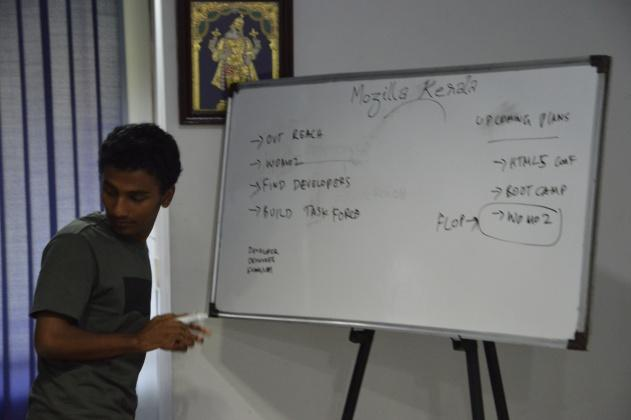Whiteboard: (205, 53, 612, 350)
